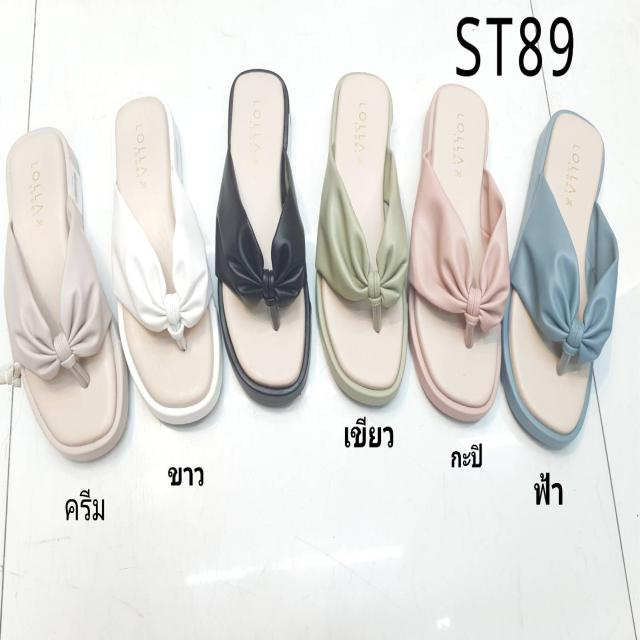black: (212, 68, 317, 406)
blue: (502, 113, 614, 446)
cream: (5, 128, 133, 458)
green: (319, 74, 414, 407)
kapi: (415, 79, 504, 417)
white: (112, 98, 227, 428)
